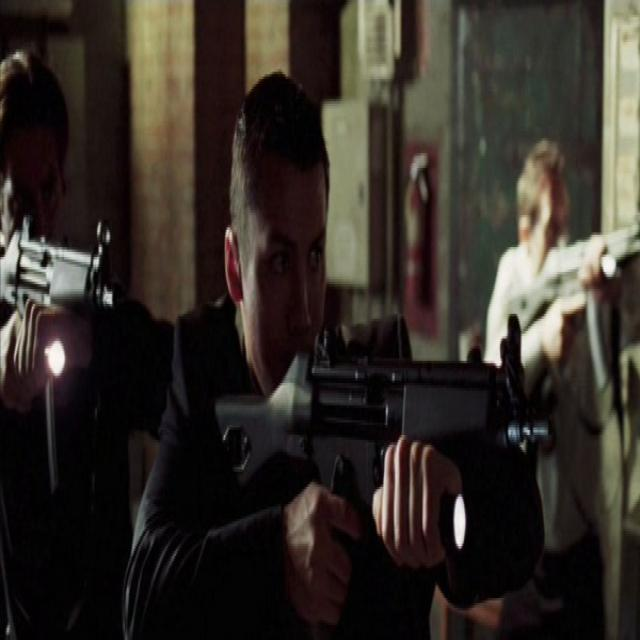rifle: (211, 306, 564, 507), (1, 215, 122, 501)
